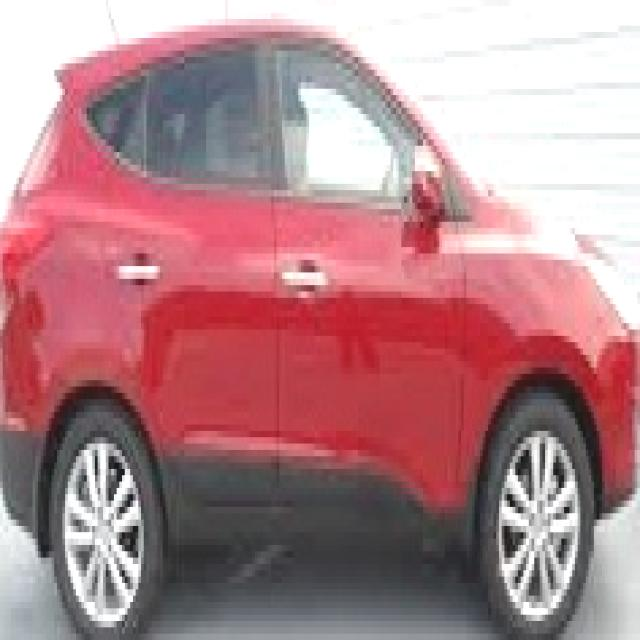red: (2, 18, 640, 551)
